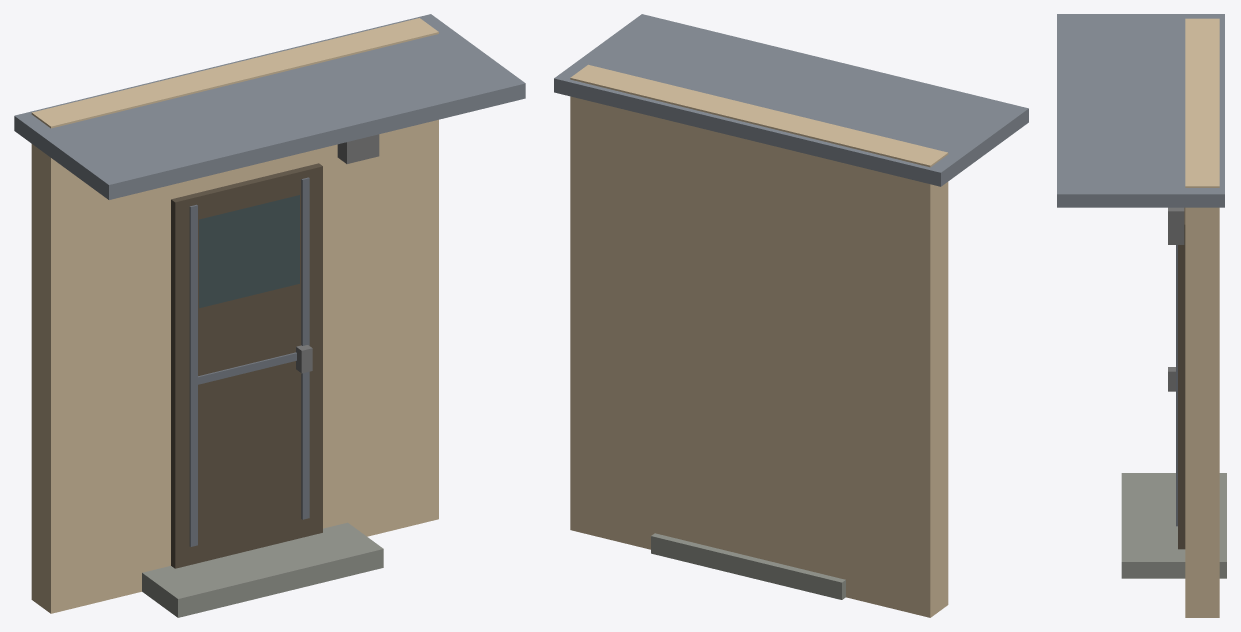
File: entrance_close.fbx
3 renders of one model, left to right at view 1: azimuth 30°, elevation 25°; view 2: azimuth 150°, elevation 25°; view 3: azimuth 270°, elevation 25°, orthographic. The views are drawn at different scales.
Parts seen in each view (by area): view 1: a2014/0/entrance_close; view 2: a2014/0/entrance_close; view 3: a2014/0/entrance_close.
Boxes of the visible parts, bbox=[...] form: a2014/0/entrance_close: bbox=[14, 14, 525, 617]; a2014/0/entrance_close: bbox=[554, 14, 1028, 617]; a2014/0/entrance_close: bbox=[1057, 14, 1226, 617].
Size of the model in its own units: 2.31 by 2.58 by 0.92.
